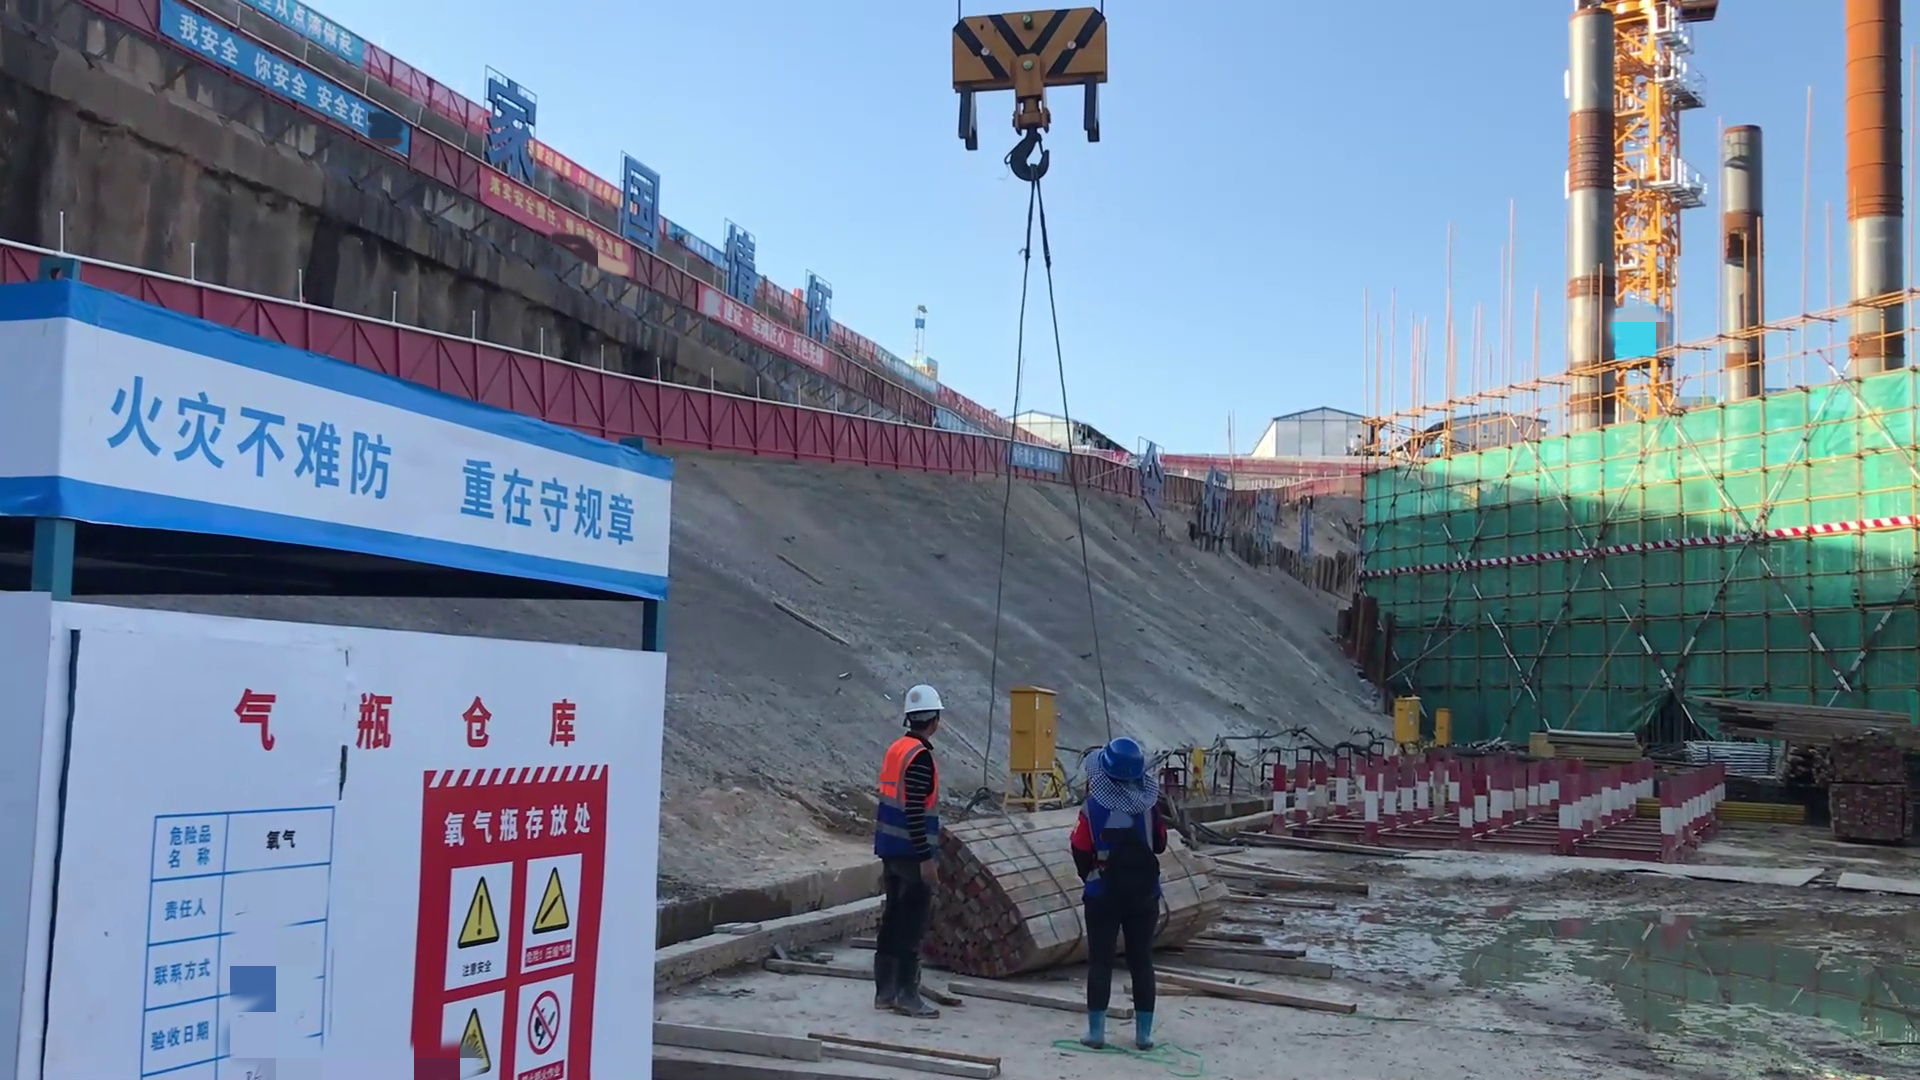ebox: (1002, 679, 1065, 768), (1391, 699, 1429, 746), (1429, 700, 1447, 751)
fence: (673, 379, 834, 468), (834, 409, 1023, 479)
helmet: (1089, 735, 1161, 785), (891, 687, 950, 734)
hook: (937, 9, 1107, 161)
person: (1067, 735, 1179, 1062), (876, 673, 951, 1017)
slogan: (102, 367, 670, 552), (133, 1, 421, 196), (434, 850, 586, 1080), (478, 148, 640, 293)
vest: (874, 736, 939, 859)
wood: (949, 807, 1073, 991), (1700, 687, 1920, 777)
